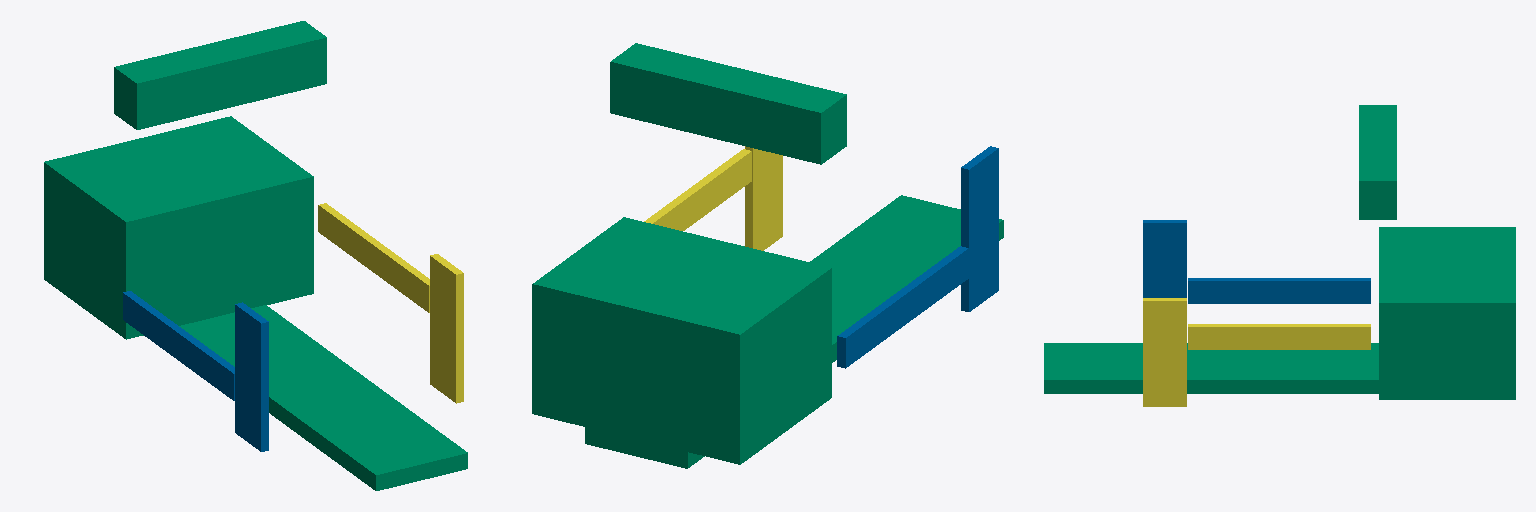
The robot description file, URDF, robot "tm5s_egu50_no_air_cylinder":
<?xml version="1.0"?>
<robot name="tm5s_egu50_no_air_cylinder">
  <link name="base" />
  <link name="link_0">
    <inertial>
      <mass value="1.0" />
      <inertia ixx="0.00270976" ixy="7.8e-07" ixz="-2.591e-05" iyy="0.00274974" iyz="7.81e-06" izz="0.00258497" />
    </inertial>
    <visual name="link_0">
      <geometry>
        <mesh filename="tm5s/meshes/tm5s-base_c.stl" />
      </geometry>
    </visual>
    <collision name="link_0">
      <geometry>
        <mesh filename="tm5s/meshes/tm5s-base_c.stl" />
      </geometry>
    </collision>
  </link>
  <link name="link_1">
    <inertial>
      <mass value="4.32000017" />
      <inertia ixx="0.01457232" ixy="5.284e-05" ixz="2.211e-05" iyy="0.0133901" iyz="3.468e-05" izz="0.0093386" />
    </inertial>
    <visual name="link_1">
      <geometry>
        <mesh filename="tm5s/meshes/tm5s-j1_c.stl" />
      </geometry>
    </visual>
    <collision name="link_1">
      <geometry>
        <mesh filename="tm5s/meshes/tm5s-j1_c.stl" />
      </geometry>
    </collision>
  </link>
  <link name="link_2">
    <inertial>
      <mass value="9.79599953" />
      <inertia ixx="0.25492888" ixy="0.00240641" ixz="-0.3156679" iyy="0.91542188" iyz="0.00118779" izz="0.68151734" />
    </inertial>
    <visual name="link_2">
      <geometry>
        <mesh filename="tm5s/meshes/tm5s-a1_c.stl" />
      </geometry>
    </visual>
    <collision name="link_2">
      <geometry>
        <mesh filename="tm5s/meshes/tm5s-a1_c.stl" />
      </geometry>
    </collision>
  </link>
  <link name="link_3">
    <inertial>
      <mass value="2.77800012" />
      <inertia ixx="0.00709924" ixy="0.0001504" ixz="-0.01471706" iyy="0.16585909" iyz="1.337e-05" izz="0.16255645" />
    </inertial>
    <visual name="link_3">
      <geometry>
        <mesh filename="tm5s/meshes/tm5s-a2_c.stl" />
      </geometry>
    </visual>
    <collision name="link_3">
      <geometry>
        <mesh filename="tm5s/meshes/tm5s-a2_c.stl" />
      </geometry>
    </collision>
  </link>
  <link name="link_4">
    <inertial>
      <mass value="1.76999998" />
      <inertia ixx="0.00375776" ixy="-5.023e-05" ixz="3.73e-06" iyy="0.00233051" iyz="-4.89e-06" izz="0.00323681" />
    </inertial>
    <visual name="link_4">
      <geometry>
        <mesh filename="tm5s/meshes/tm5s-j5_c.stl" />
      </geometry>
    </visual>
    <collision name="link_4">
      <geometry>
        <mesh filename="tm5s/meshes/tm5s-j5_c.stl" />
      </geometry>
    </collision>
  </link>
  <link name="link_5">
    <inertial>
      <mass value="1.76999998" />
      <inertia ixx="0.00375776" ixy="5.023e-05" ixz="3.73e-06" iyy="0.00233051" iyz="4.89e-06" izz="0.00323681" />
    </inertial>
    <visual name="link_5">
      <geometry>
        <mesh filename="tm5s/meshes/tm5s-j6_c.stl" />
      </geometry>
    </visual>
    <collision name="link_5">
      <geometry>
        <mesh filename="tm5s/meshes/tm5s-j6_c.stl" />
      </geometry>
    </collision>
  </link>
  <link name="link_6">
    <inertial>
      <mass value="2.31299996" />
      <inertia ixx="0.00268334" ixy="-0.00020618" ixz="2.72e-06" iyy="0.00110154" iyz="-1.259e-05" izz="0.00226163" />
    </inertial>
    <visual name="link_6">
      <geometry>
        <mesh filename="tm5s/meshes/tm5s-io_c.stl" />
      </geometry>
    </visual>
    <collision name="link_6">
      <geometry>
        <mesh filename="tm5s/meshes/tm5s-io_c.stl" />
      </geometry>
    </collision>
  </link>
  <link name="flange" />
  <link name="gripper_base" />
  <link name="gripper_body">
    <inertial>
      <origin xyz="0.0026128 -0.1053171 -0.0104483" rpy="0.0 -0.0 0.0" />
      <mass value="1.49" />
      <inertia ixx="0.0082277" ixy="0.0008049" ixz="2.19e-05" iyy="0.0023777" iyz="-9.7e-05" izz="0.0094396" />
    </inertial>
    <visual name="body">
      <origin xyz="0.0 -0.0465 0.0" rpy="0.0 -0.0 0.0" />
      <geometry>
        <mesh filename="egu50/meshes/body.obj" />
      </geometry>
    </visual>
    <visual name="plate">
      <origin xyz="0.0 -0.1605 -0.041" rpy="0.0 -0.0 0.0" />
      <geometry>
        <mesh filename="egu50/meshes/plate.obj" />
      </geometry>
    </visual>
    <visual name="d455">
      <origin xyz="0.0 -0.0937 0.11383" rpy="0.0 -0.0 0.0" />
      <geometry>
        <mesh filename="egu50/meshes/d455.obj" />
      </geometry>
    </visual>
    <collision name="body">
      <origin xyz="0.0 -0.0465 0.0" rpy="0.0 -0.0 0.0" />
      <geometry>
        <mesh filename="egu50/meshes/body.obj" />
      </geometry>
    </collision>
    <collision name="plate">
      <origin xyz="0.0 -0.1605 -0.041" rpy="0.0 -0.0 0.0" />
      <geometry>
        <mesh filename="egu50/meshes/plate.obj" />
      </geometry>
    </collision>
    <collision name="d455">
      <origin xyz="0.0 -0.0937 0.11383" rpy="0.0 -0.0 0.0" />
      <geometry>
        <mesh filename="egu50/meshes/d455.obj" />
      </geometry>
    </collision>
  </link>
  <link name="right_gripper">
    <visual name="right_gripper_0">
      <geometry>
        <mesh filename="egu50/meshes/right_gripper_0.obj" />
      </geometry>
    </visual>
    <visual name="right_gripper_1">
      <geometry>
        <mesh filename="egu50/meshes/right_gripper_1.obj" />
      </geometry>
    </visual>
    <collision name="right_gripper_0">
      <geometry>
        <mesh filename="egu50/meshes/right_gripper_0.obj" />
      </geometry>
    </collision>
    <collision name="right_gripper_1">
      <geometry>
        <mesh filename="egu50/meshes/right_gripper_1.obj" />
      </geometry>
    </collision>
  </link>
  <link name="left_gripper">
    <visual name="left_gripper_0">
      <geometry>
        <mesh filename="egu50/meshes/left_gripper_0.obj" />
      </geometry>
    </visual>
    <visual name="left_gripper_1">
      <geometry>
        <mesh filename="egu50/meshes/left_gripper_1.obj" />
      </geometry>
    </visual>
    <collision name="left_gripper_0">
      <geometry>
        <mesh filename="egu50/meshes/left_gripper_0.obj" />
      </geometry>
    </collision>
    <collision name="left_gripper_1">
      <geometry>
        <mesh filename="egu50/meshes/left_gripper_1.obj" />
      </geometry>
    </collision>
  </link>
  <joint name="base_fixed_joint" type="fixed">
    <parent link="base" />
    <child link="link_0" />
  </joint>
  <joint name="joint_1" type="revolute">
    <origin xyz="0.0 0.0 0.14839999" rpy="0.0 -0.0 0.0" />
    <parent link="link_0" />
    <child link="link_1" />
    <axis xyz="0.0 0.0 1.0" />
    <limit lower="-6.28318531" upper="6.28318531" effort="157.0" velocity="3.66519143" />
  </joint>
  <joint name="joint_2" type="revolute">
    <origin xyz="0.0 0.0 0.0" rpy="0.0 -1.57079594 -1.57079595" />
    <parent link="link_1" />
    <child link="link_2" />
    <axis xyz="0.0 0.0 1.0" />
    <limit lower="-6.28318531" upper="6.28318531" effort="157.0" velocity="3.66519143" />
  </joint>
  <joint name="joint_3" type="revolute">
    <origin xyz="0.42900004 -3e-08 1e-08" rpy="-4e-08 -5e-08 -4e-08" />
    <parent link="link_2" />
    <child link="link_3" />
    <axis xyz="0.0 0.0 1.0" />
    <limit lower="-2.75762022" upper="2.75762022" effort="157.0" velocity="3.66519143" />
  </joint>
  <joint name="joint_4" type="revolute">
    <origin xyz="0.38599999 -3e-08 -0.14780001" rpy="0.0 -0.0 1.57079597" />
    <parent link="link_3" />
    <child link="link_4" />
    <axis xyz="0.0 0.0 1.0" />
    <limit lower="-6.28318531" upper="6.28318531" effort="54.0" velocity="3.92699082" />
  </joint>
  <joint name="joint_5" type="revolute">
    <origin xyz="-1e-08 -0.13149999 3e-08" rpy="1.5707959 -0.0 2.0000000000000004e-08" />
    <parent link="link_4" />
    <child link="link_5" />
    <axis xyz="0.0 0.0 1.0" />
    <limit lower="-6.28318531" upper="6.28318531" effort="54.0" velocity="3.92699082" />
  </joint>
  <joint name="joint_6" type="revolute">
    <origin xyz="0.00011638 -0.13494993 6.163e-05" rpy="1.57033882 2e-07 0.00086241" />
    <parent link="link_5" />
    <child link="link_6" />
    <axis xyz="0.0 0.0 1.0" />
    <limit lower="-6.28318531" upper="6.28318531" effort="34.0" velocity="7.85398163" />
  </joint>
  <joint name="flange_fixed_joint" type="fixed">
    <origin xyz="-0.00011638 -6.175e-05 -1.2e-07" rpy="0.00045759999999999996 -0.00086241 -2.0000000000000002e-07" />
    <parent link="link_6" />
    <child link="flange" />
  </joint>
  <joint name="gripper_fixed" type="fixed">
    <parent link="gripper_base" />
    <child link="gripper_body" />
  </joint>
  <joint name="right_gripper_joint" type="prismatic">
    <origin xyz="0.02614 -0.0880107 0.02911" rpy="0.0 -0.0 -1.5707964" />
    <parent link="gripper_body" />
    <child link="right_gripper" />
    <axis xyz="0.0 1.0 0.0" />
    <limit lower="0.00985" upper="0.06085" effort="100.0" velocity="0.1" />
  </joint>
  <joint name="left_gripper_joint" type="prismatic">
    <origin xyz="-0.0261453 -0.0880107 -0.029113" rpy="-3.1415926071795868 -0.0 -1.5707964" />
    <parent link="gripper_body" />
    <child link="left_gripper" />
    <axis xyz="0.0 1.0 0.0" />
    <limit lower="0.00985" upper="0.06085" effort="100.0" velocity="0.1" />
  </joint>
  <joint name="flange_to_gripper" type="fixed">
    <origin xyz="0.0 0.0 0.0" rpy="-1.5707963267948966 -0.0 0.0" />
    <parent link="flange" />
    <child link="gripper_base" />
  </joint>
</robot>

--- Render facts (derived) ---
Views: 3 orthographic renders of the robot side by side, from view 1: azimuth 30°, elevation 25°; view 2: azimuth 150°, elevation 25°; view 3: azimuth 270°, elevation 25°.
Model tm5s_egu50_no_air_cylinder with 13 links and 12 joints (6 revolute, 2 prismatic, 4 fixed), rooted at base, posed all joints at 0 but 2 set to mid-range because 0 is outside their limits (right_gripper_joint = 0.0353, left_gripper_joint = 0.0353).
Visible links, largest first — view 1: gripper_body, left_gripper, right_gripper; view 2: gripper_body, left_gripper, right_gripper; view 3: gripper_body, right_gripper, left_gripper.
Link boxes in pixels (bbox=[...]): gripper_body: bbox=[44, 21, 467, 490]; left_gripper: bbox=[123, 291, 268, 451]; right_gripper: bbox=[318, 203, 463, 403]; gripper_body: bbox=[532, 43, 1003, 468]; left_gripper: bbox=[837, 146, 998, 368]; right_gripper: bbox=[644, 146, 782, 250]; gripper_body: bbox=[1044, 105, 1515, 399]; right_gripper: bbox=[1143, 298, 1370, 406]; left_gripper: bbox=[1143, 220, 1370, 303].
Size in the robot's own frame: 0.1322 by 0.321 by 0.1743 metres.
Meshes: 14 distinct files referenced, 7 mesh visuals loaded (7 OBJ); not drawn: 7 (reference not matched to a file when rendering).
